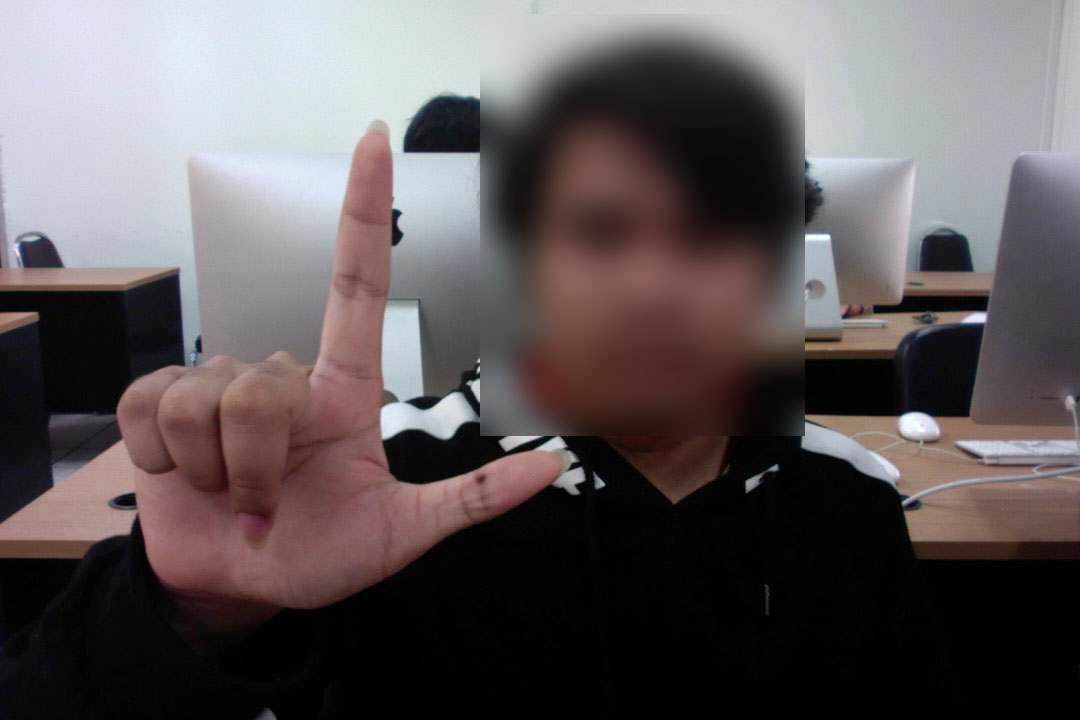lor: (88, 101, 577, 633)
